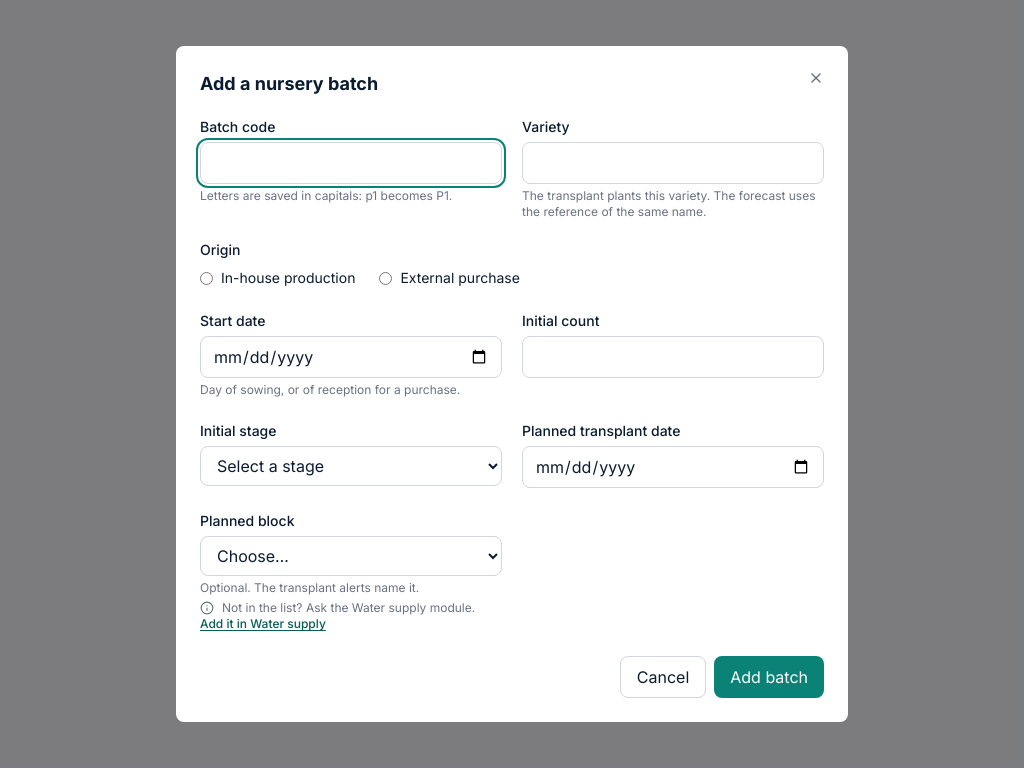
the add a nursery batch dialog › shows the errors of the empty form under their fields and sends nothing
Click the button "Add batch": (769, 677) [714,656,824,698]
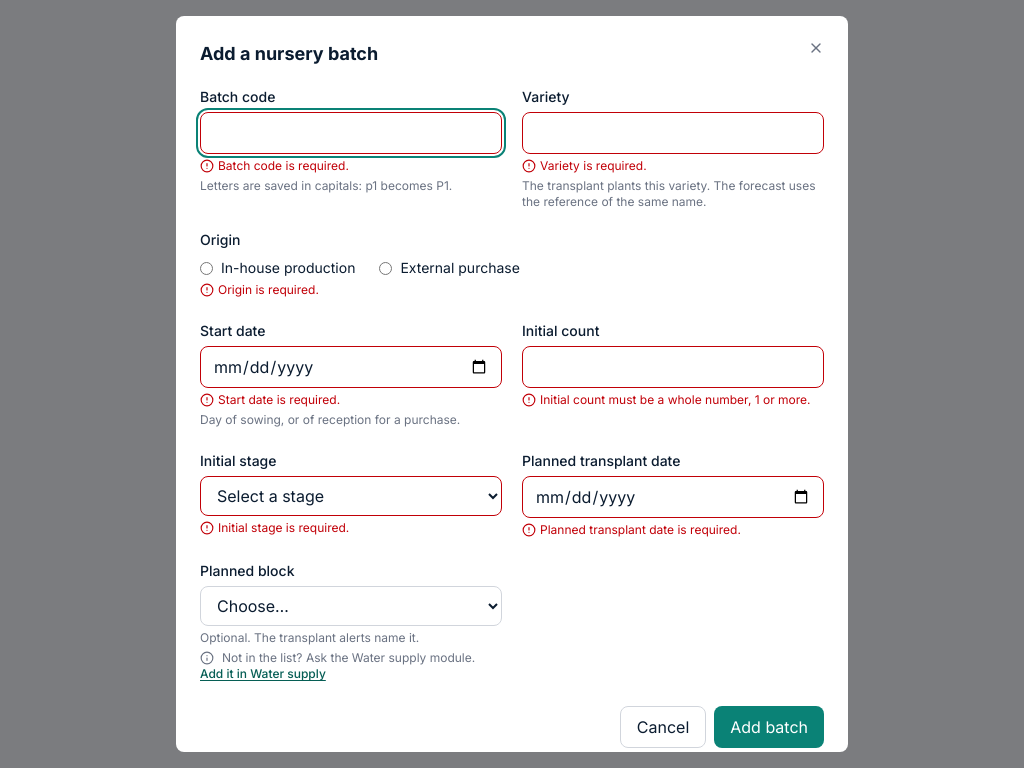
expect the text "Batch code is required." is shown: met, box [218,158,349,174]
expect the text "Variety is required." is shown: met, box [540,158,647,174]
expect the text "Origin is required." is shown: met, box [218,282,319,298]
